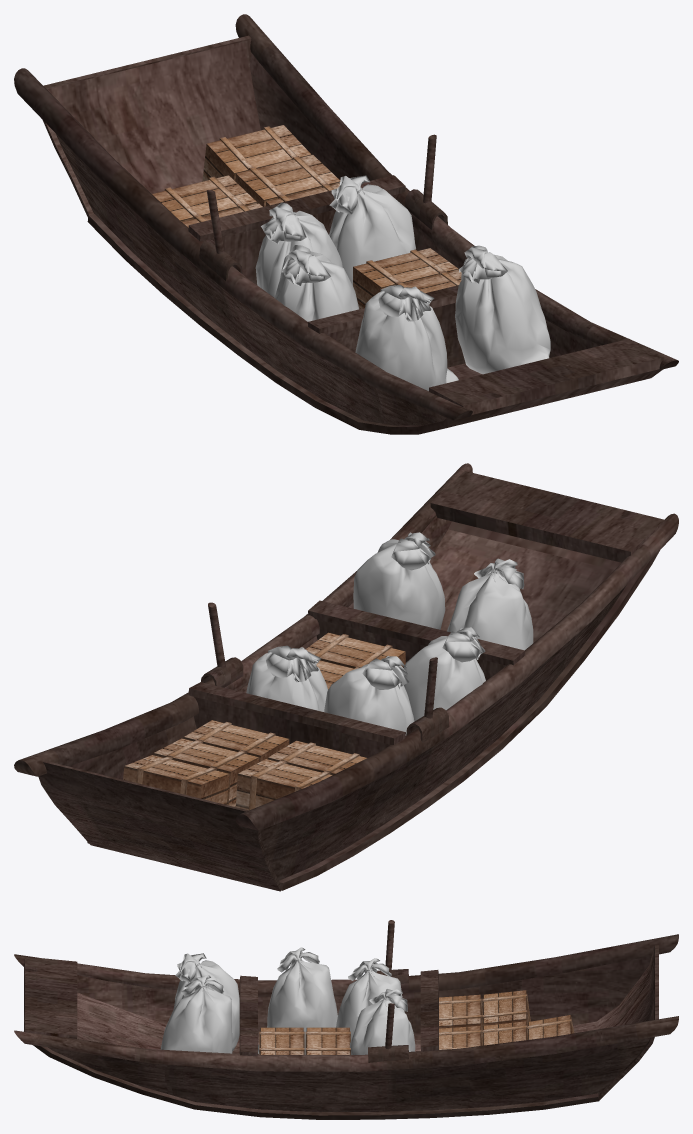
3 renders of one model, top to bottom at view 1: azimuth 30°, elevation 25°; view 2: azimuth 150°, elevation 25°; view 3: azimuth 270°, elevation 25°, orthographic. The views are drawn at different scales.
Visible parts, largest first — view 1: Boat, Goods_bag.005, Goods_bag.004, Goods_bag.001, Goods_bag.003, Goods_bag.002, Goods_case_only.005, Goods_case_only.004, Goods_case_only.002, Goods_case_only.001, Goods_case_only.006; view 2: Boat, Goods_bag.005, Goods_bag.004, Goods_bag.002, Goods_bag.003, Goods_bag.001, Goods_case_only.005, Goods_case_only.001, Goods_case_only.004, Goods_case_only.003, Goods_case_only.006, Goods_case_only.050; view 3: Boat, Goods_bag.003, Goods_bag.005, Goods_bag.001, Goods_bag.002, Goods_bag.004, Goods_case_only.001, Goods_case_only.050, Goods_case_only.006, Goods_case_only.002, Goods_case_only.003, Goods_case_only.004 (+1 smaller).
Part boxes in pixels (x1,y1,x2,y2): Boat: [14, 14, 678, 434]; Goods_bag.005: [455, 245, 550, 374]; Goods_bag.004: [355, 284, 458, 390]; Goods_bag.001: [329, 175, 415, 285]; Goods_bag.003: [274, 245, 359, 321]; Goods_bag.002: [255, 202, 342, 297]; Goods_case_only.005: [202, 125, 311, 181]; Goods_case_only.004: [235, 154, 340, 206]; Goods_case_only.002: [353, 248, 458, 309]; Goods_case_only.001: [152, 175, 257, 221]; Goods_case_only.006: [396, 271, 461, 293]; Boat: [14, 463, 678, 891]; Goods_bag.005: [353, 532, 445, 629]; Goods_bag.004: [447, 558, 533, 650]; Goods_bag.002: [324, 655, 414, 735]; Goods_bag.003: [403, 627, 485, 721]; Goods_bag.001: [246, 645, 327, 711]; Goods_case_only.005: [123, 755, 229, 804]; Goods_case_only.001: [235, 759, 332, 810]; Goods_case_only.004: [153, 738, 258, 806]; Goods_case_only.003: [183, 720, 289, 762]; Goods_case_only.006: [305, 632, 405, 668]; Goods_case_only.050: [268, 740, 367, 774]; Boat: [14, 920, 678, 1119]; Goods_bag.003: [258, 947, 337, 1054]; Goods_bag.005: [160, 974, 232, 1053]; Goods_bag.001: [350, 989, 415, 1054]; Goods_bag.002: [336, 958, 402, 1040]; Goods_bag.004: [173, 953, 239, 1051]; Goods_case_only.001: [482, 990, 530, 1025]; Goods_case_only.050: [439, 994, 483, 1045]; Goods_case_only.006: [259, 1027, 304, 1054]; Goods_case_only.002: [305, 1027, 350, 1054]; Goods_case_only.003: [439, 1026, 482, 1049]; Goods_case_only.004: [482, 1021, 527, 1045].
Bounding box in the file's own units: 116 × 74.6 × 366.
